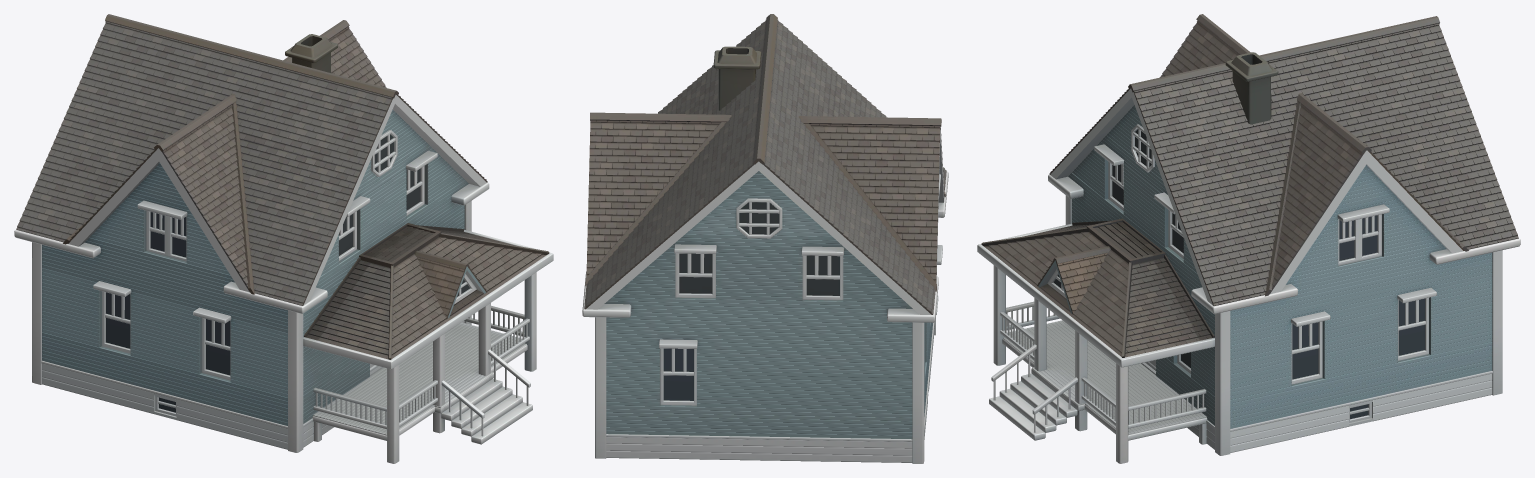
Rendered from house.glb.
The picture shows the model from 3 angles, left to right: view 1: azimuth 30°, elevation 25°; view 2: azimuth 150°, elevation 25°; view 3: azimuth 270°, elevation 25°; orthographic projection.
Parts seen in each view (by area): view 1: node_id115; view 2: node_id115; view 3: node_id115.
Boxes of the visible parts, <box> form: node_id115: <box>14,14,553,463</box>; node_id115: <box>582,14,948,463</box>; node_id115: <box>977,14,1520,463</box>.
Bounding box in the file's own units: 0.461 × 0.3312 × 0.5021.
1 material, 1 textured.
